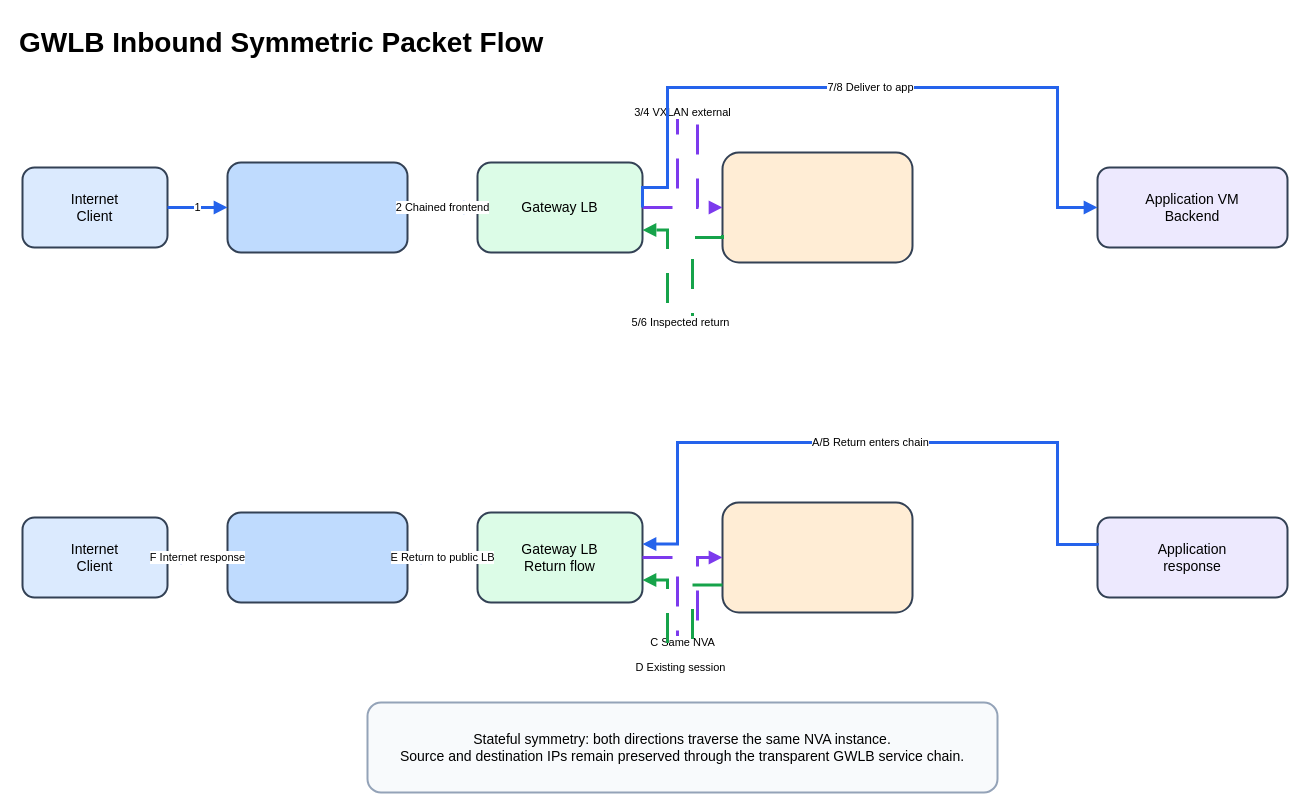
This 1314x810 diagram has some shape labels left out. The box of each missing label's shape, as (x1, y1, x2, y2) in pixels:
Same NVA instance Existing session: (721, 501, 913, 613)
Selected NVA Stateful firewall: (721, 151, 913, 263)
Standard Public LB Frontend: (226, 161, 408, 253)
Standard Public LB Response path: (226, 511, 408, 603)
